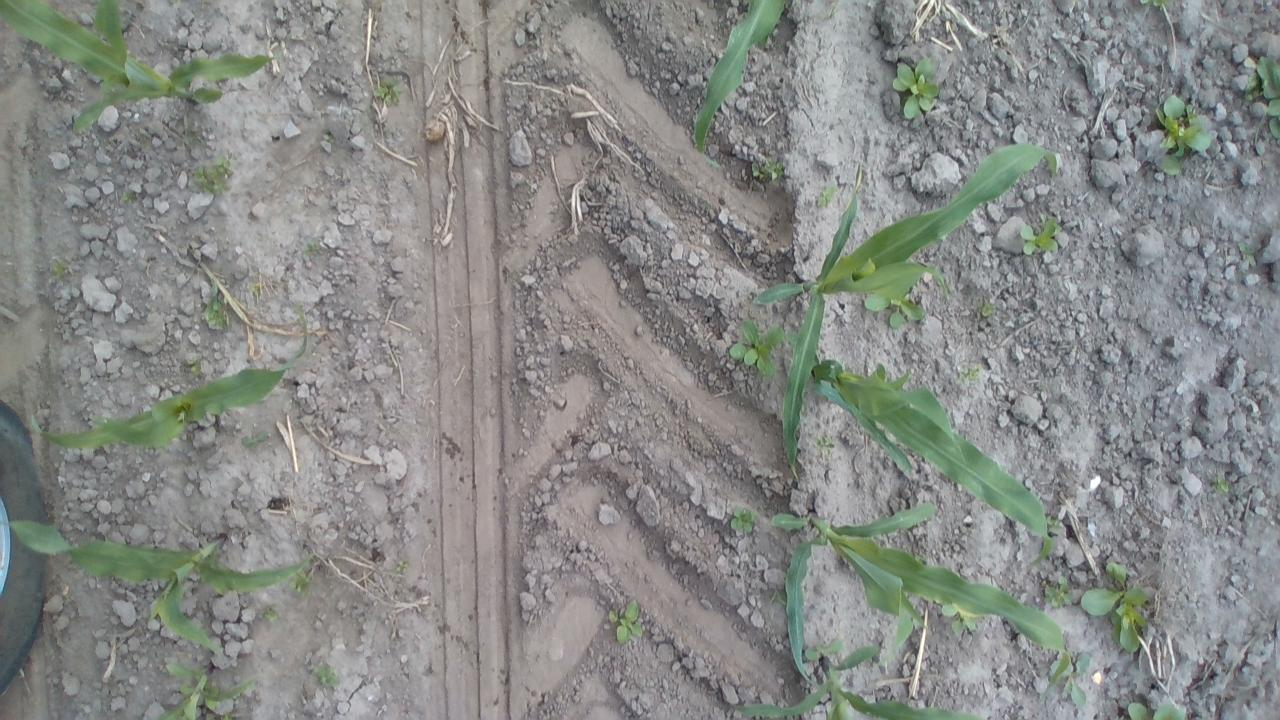Maize: (750, 129, 1063, 488), (771, 494, 1076, 696), (815, 352, 1052, 574), (2, 515, 318, 654), (26, 306, 310, 454), (1, 0, 283, 138), (727, 636, 985, 720), (692, 0, 792, 158), (159, 660, 256, 720)
Weeds: (1077, 557, 1147, 657), (1148, 88, 1212, 178), (726, 316, 789, 380), (887, 55, 942, 125), (1242, 51, 1280, 140), (1050, 647, 1096, 709), (185, 151, 237, 197), (863, 293, 922, 330), (1016, 210, 1062, 256), (608, 596, 644, 648), (1124, 694, 1187, 720), (198, 281, 230, 327), (1040, 572, 1074, 612), (746, 156, 784, 188), (941, 605, 978, 636), (728, 503, 758, 538), (804, 636, 844, 662), (372, 75, 404, 106), (954, 360, 984, 393), (314, 665, 345, 690), (1236, 238, 1261, 268), (814, 184, 840, 212), (767, 584, 788, 612), (50, 256, 70, 284), (290, 572, 311, 597), (242, 431, 268, 450), (1209, 472, 1231, 494), (184, 355, 204, 379), (810, 435, 836, 452), (302, 242, 321, 259), (980, 300, 996, 319), (263, 604, 280, 621), (118, 190, 137, 205), (1139, 0, 1170, 9), (250, 283, 264, 299), (396, 560, 410, 574), (323, 134, 335, 144), (183, 126, 194, 136), (221, 714, 233, 720)
